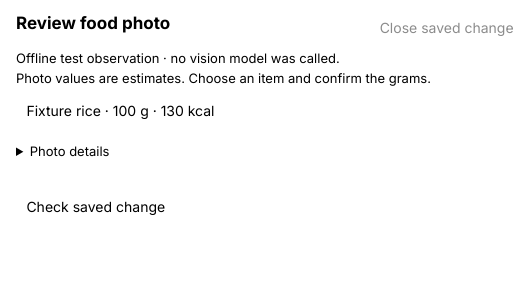
offers an explicitly labelled retry only after a checked missing receipt, keeps Check read-only and guards duplicate clicks
The image size is (530, 301).
Check: the button "Retry saving the same confirmed food" is not shown
What coordinates should you click on to do the following:
click the button "Check saved change"
I would click on:
 (96, 206)
Its box is [16,184,176,228].
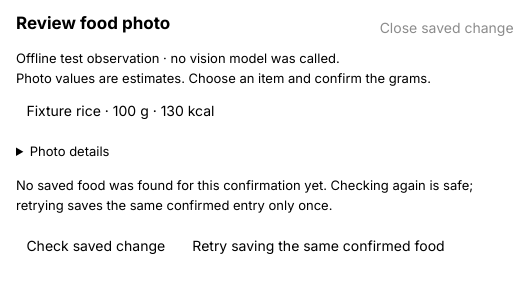
Check: the button "Check saved change" is shown, box [16,223,176,267]
Check: the button "Retry saving the same confirmed food" is shown
What coordinates should you click on to do the following:
click the button "Retry saving the same confirmed food"
I would click on:
 (318, 245)
Its box is [182,223,455,267].
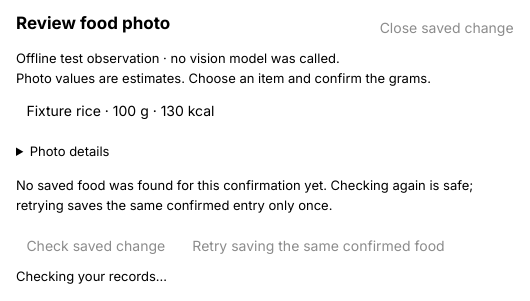
What coordinates should you click on to do the following:
click the button "Retry saving the same confirmed food"
I would click on:
 (318, 245)
Its box is [182,223,455,267].
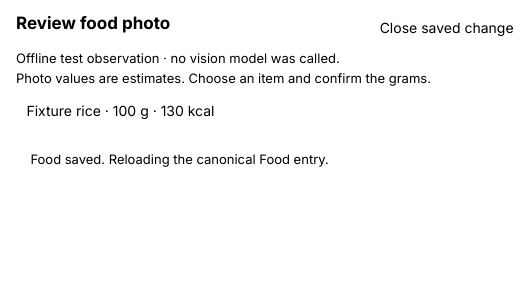
Check: the text "Food saved. Reloading the canonical Food entry." is shown, box [30,151,329,167]
